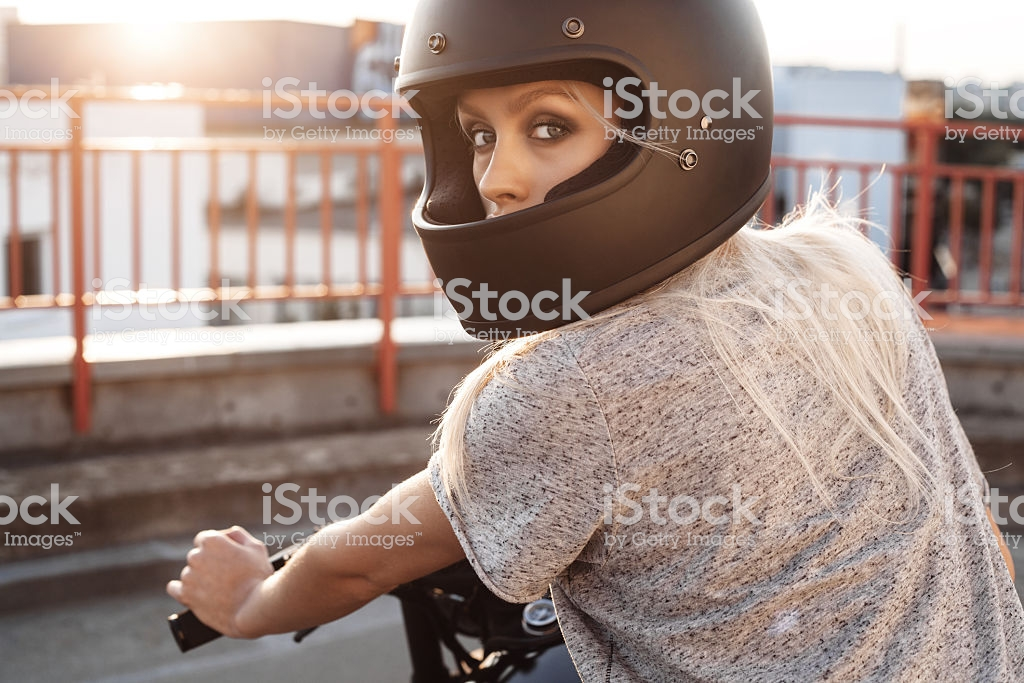helmet: (393, 1, 782, 299)
